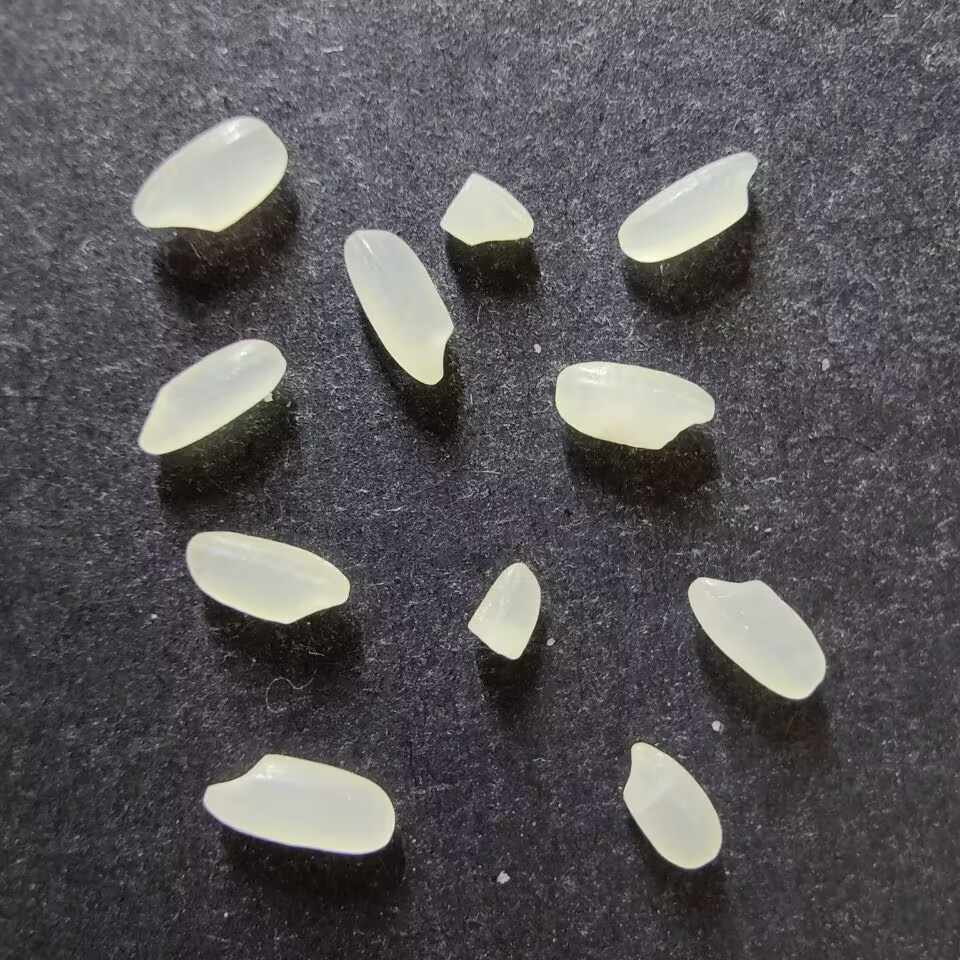broken: (466, 561, 541, 660), (439, 172, 534, 245)
rice: (201, 753, 395, 854), (132, 115, 287, 232), (137, 338, 287, 456), (343, 228, 454, 385), (687, 576, 826, 701), (617, 149, 758, 263), (185, 530, 350, 624), (554, 362, 715, 450), (622, 741, 723, 869)
